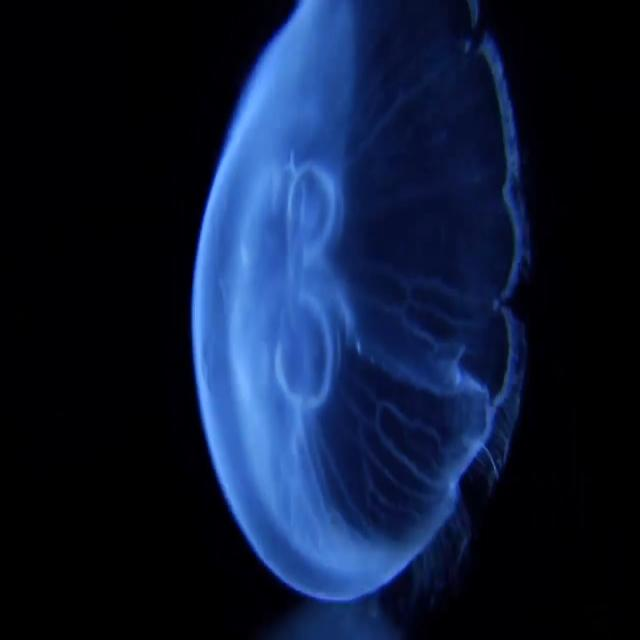Moon-jellyfish: (188, 0, 546, 639)
